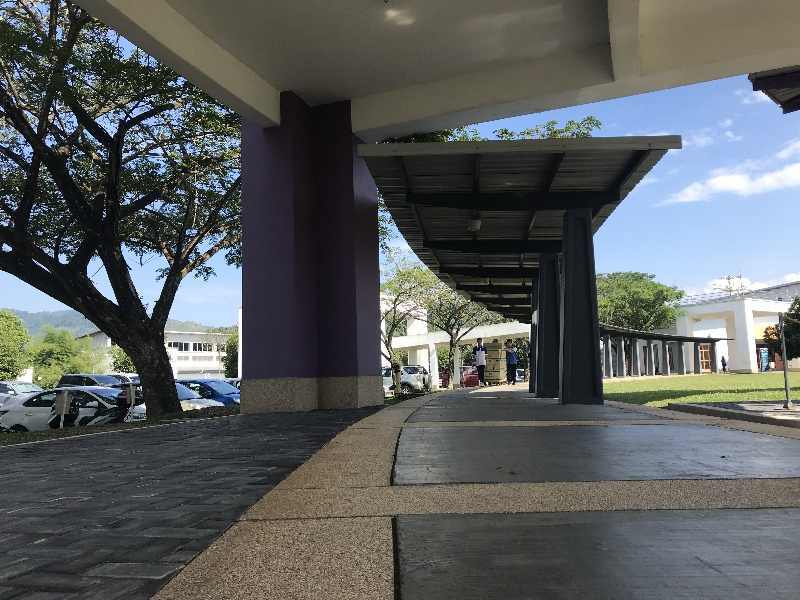pillar: (227, 92, 388, 425), (544, 204, 608, 413)
